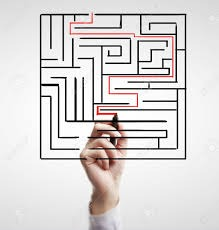maze: (40, 14, 186, 159)
